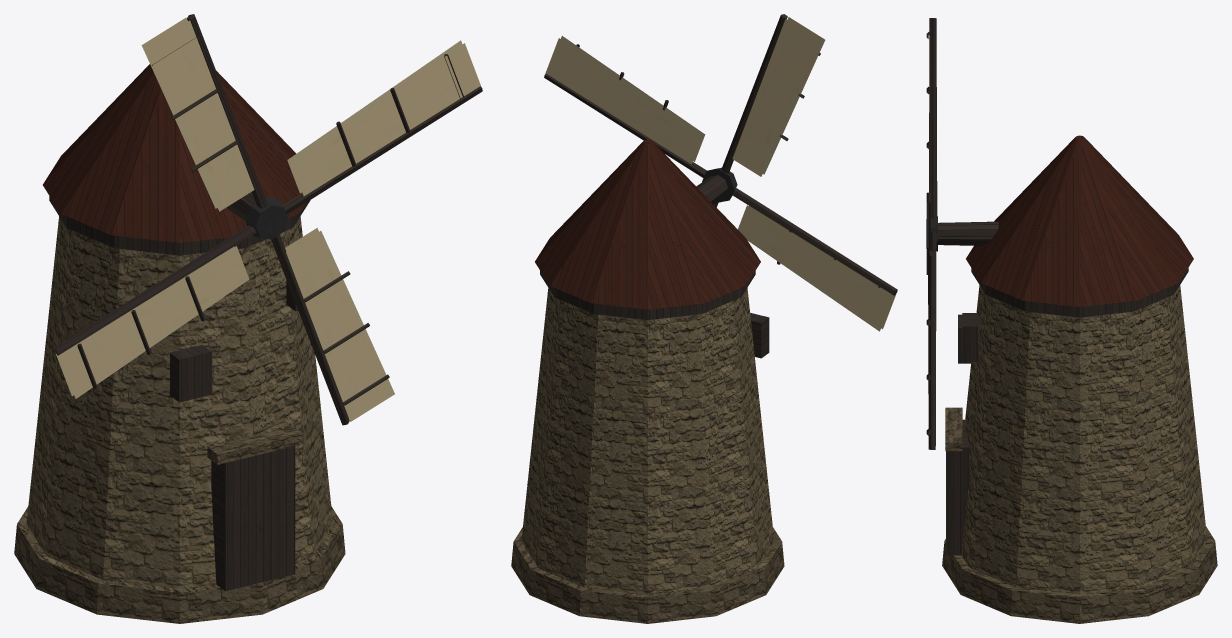
File: mill_01.glb
3 renders of one model, left to right at view 1: azimuth 30°, elevation 25°; view 2: azimuth 150°, elevation 25°; view 3: azimuth 270°, elevation 25°, orthographic. The views are drawn at different scales.
Parts seen in each view (by area): view 1: mill_01; view 2: mill_01; view 3: mill_01.
Boxes of the visible parts, bbox=[...] form: mill_01: bbox=[14, 14, 482, 623]; mill_01: bbox=[511, 14, 897, 623]; mill_01: bbox=[926, 18, 1217, 623].
Bounding box in the file's own units: 5.2 × 7.25 × 3.7.
6 materials, 6 textured.
